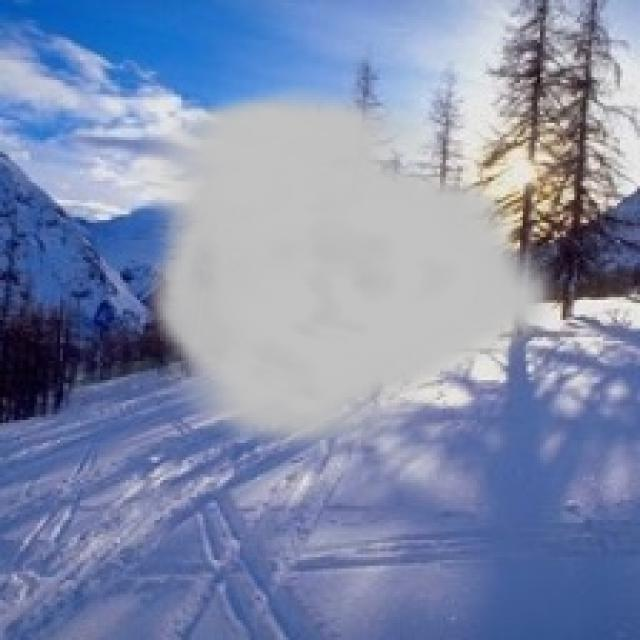smoke: (140, 86, 563, 460)
